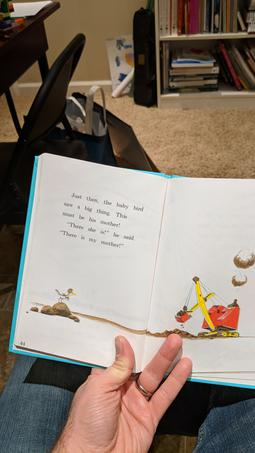text block: (54, 183, 152, 252)
